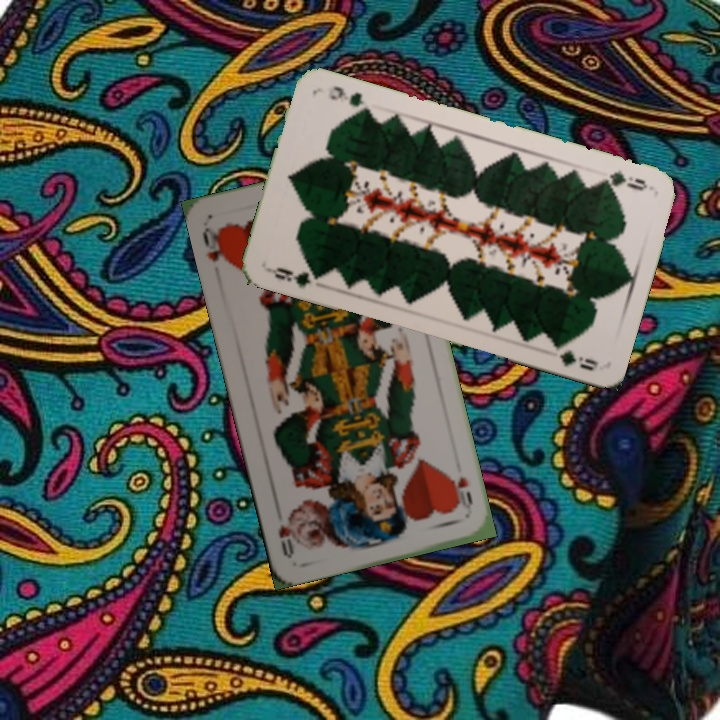G9: (264, 263, 325, 291), (594, 165, 650, 194)
HO: (198, 223, 231, 268), (446, 470, 475, 516)
